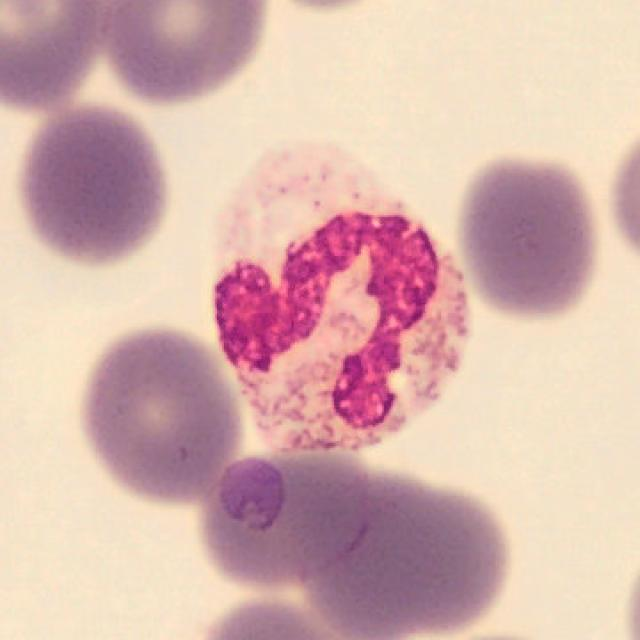Neutrofilo segmentado: (208, 140, 471, 453)
